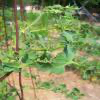Tomato leaf mosaic virus: (37, 52, 73, 74), (59, 26, 78, 62), (80, 63, 99, 81), (2, 61, 21, 74), (28, 51, 38, 59), (40, 34, 46, 46)
